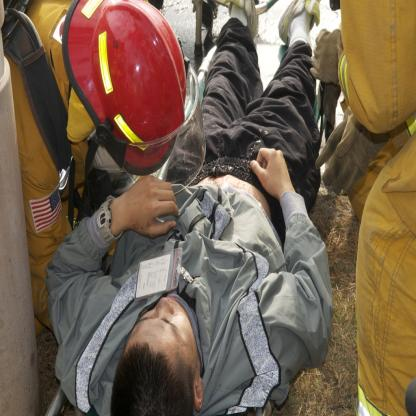Helmet: (57, 0, 187, 167)
